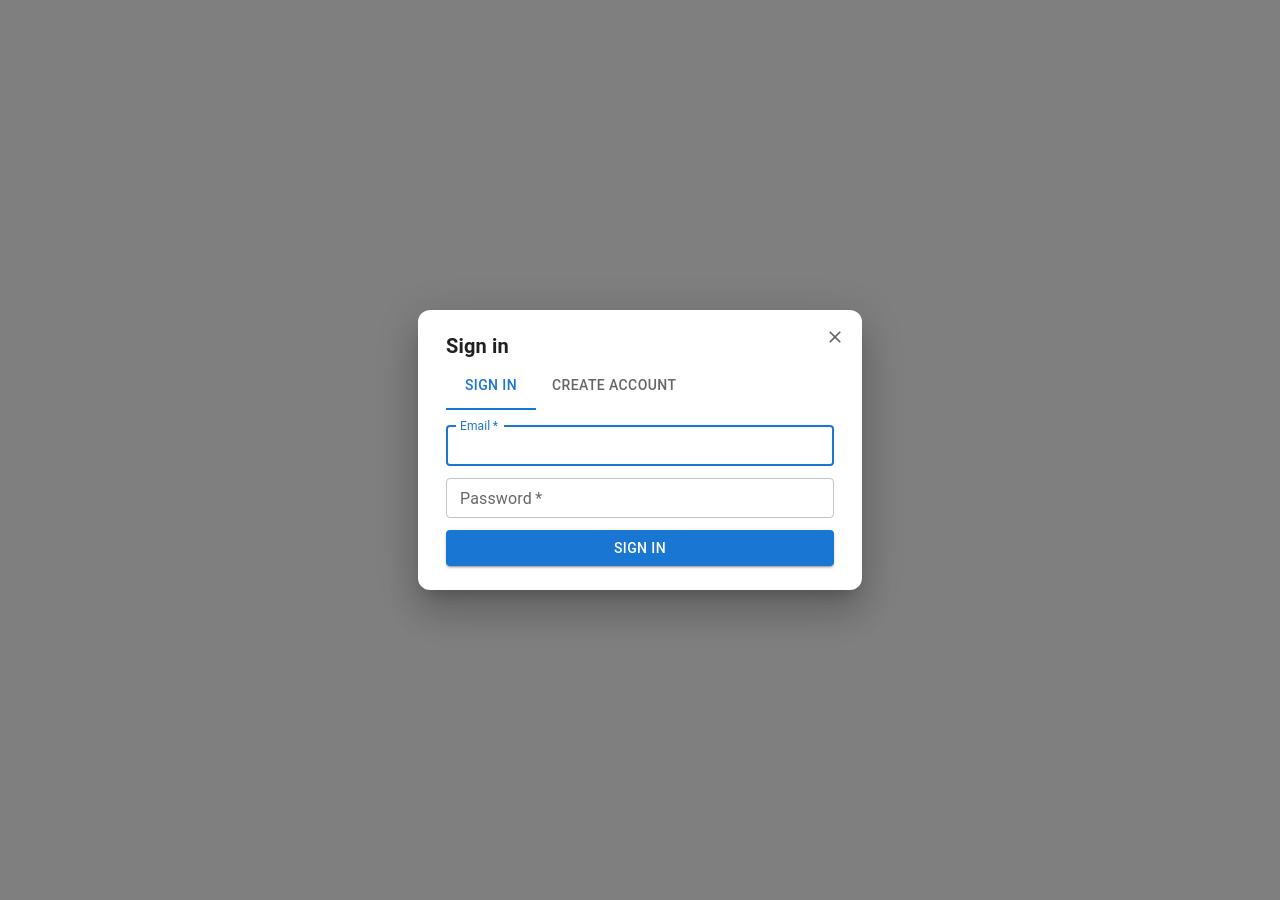
Test case: the sign in dialog › shows the words Signing in while the request is in flight
In the field labelled "Email *": (640, 446) [446, 426, 834, 466], type "ravi@cerulea.test"
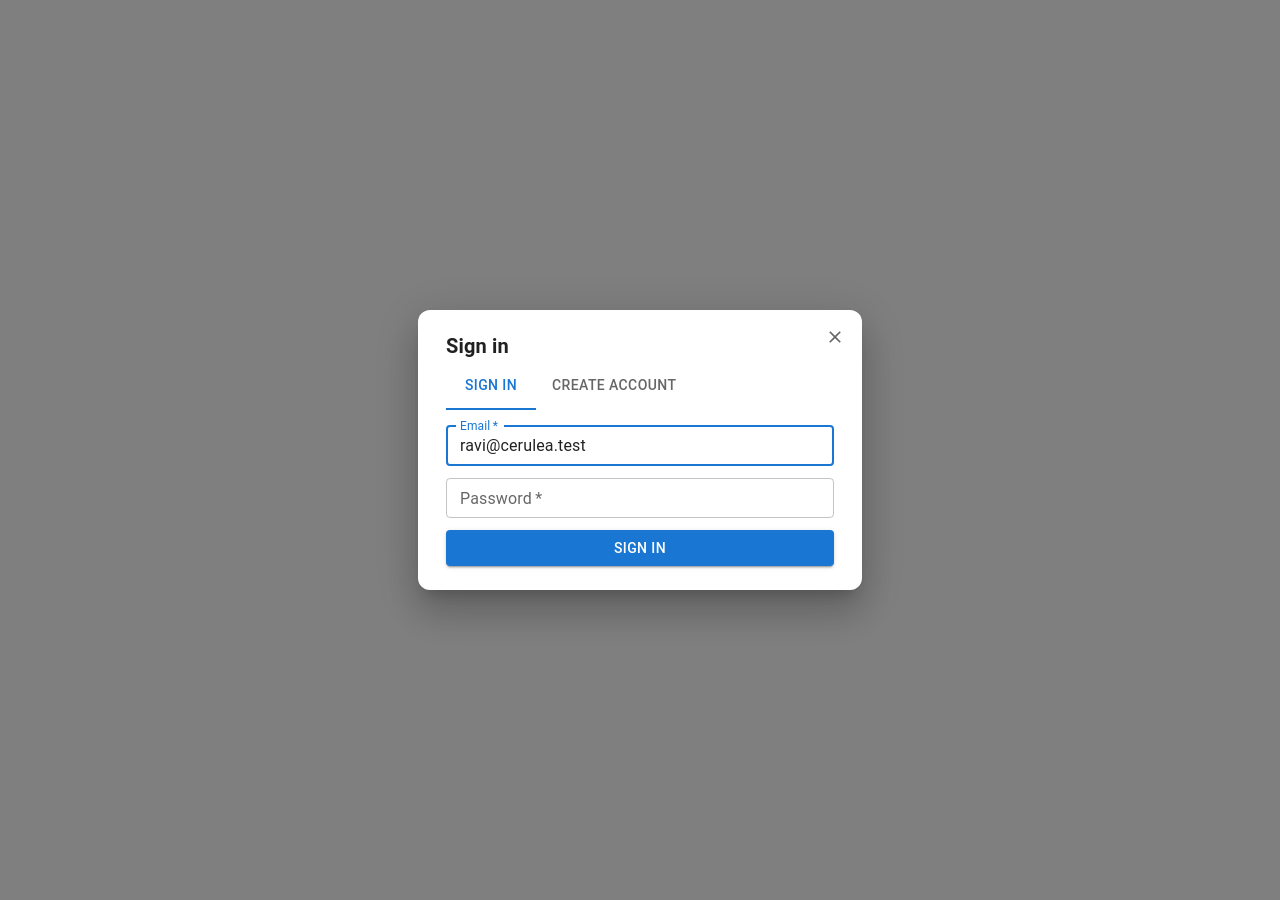
In the password field labelled "Password *": (640, 498) [446, 478, 834, 518], type "secret-words"
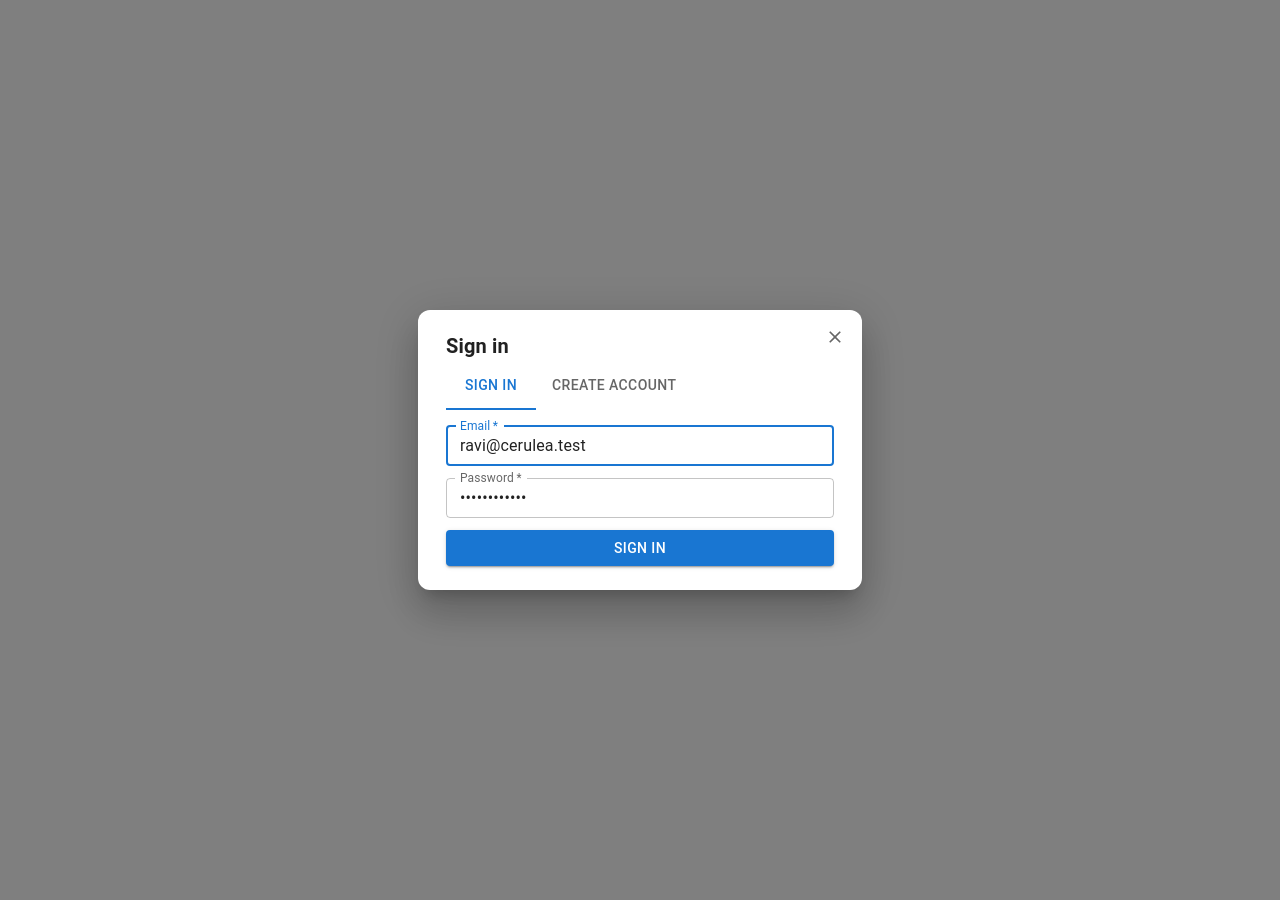
Click the button "Sign In": click(640, 548) [446, 530, 834, 566]
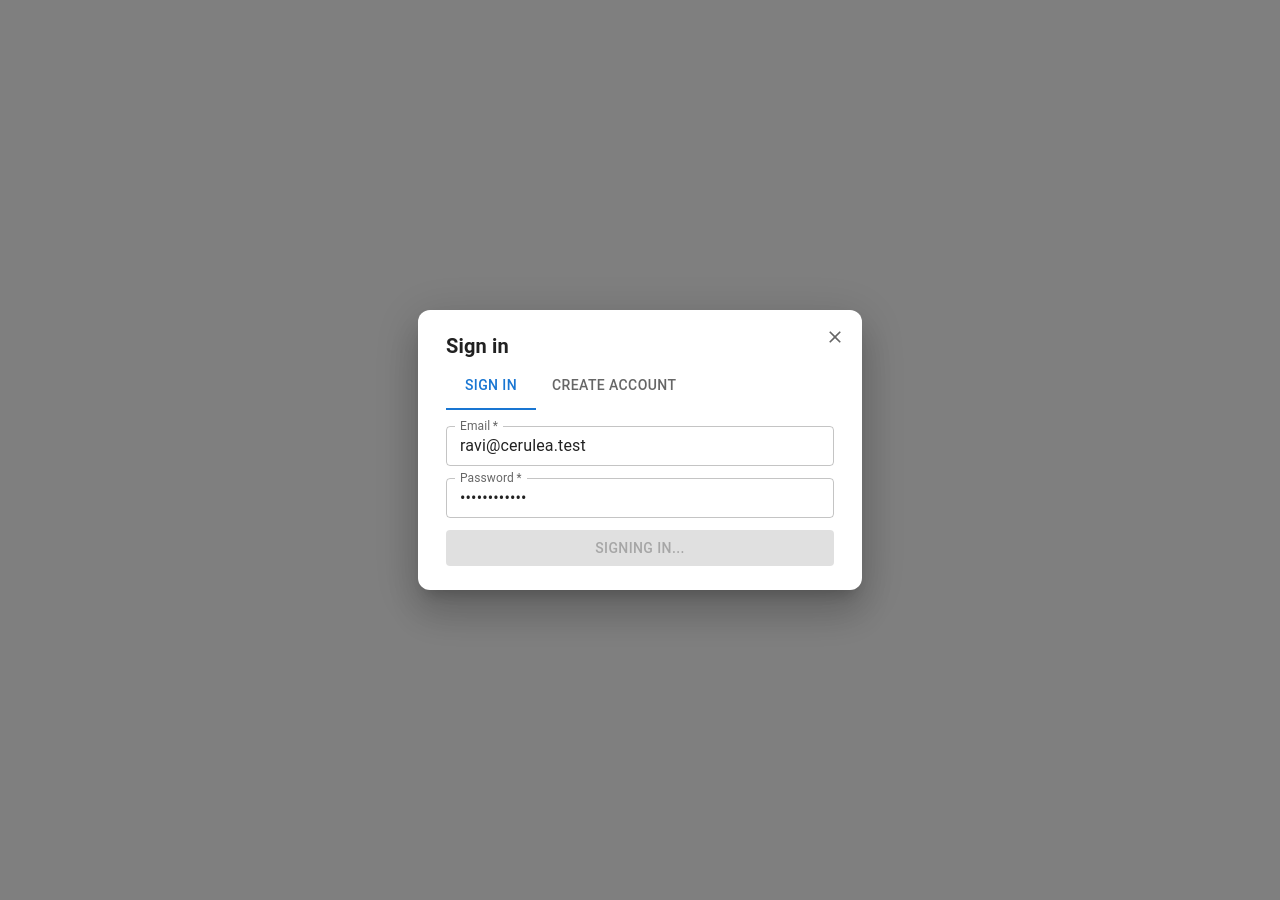
Result: the button "Signing in..." is disabled at [446, 530, 834, 566]
